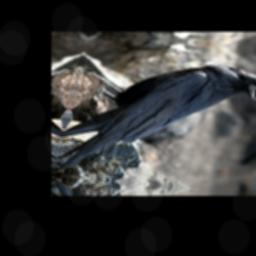Crow: (52, 51, 256, 192)
